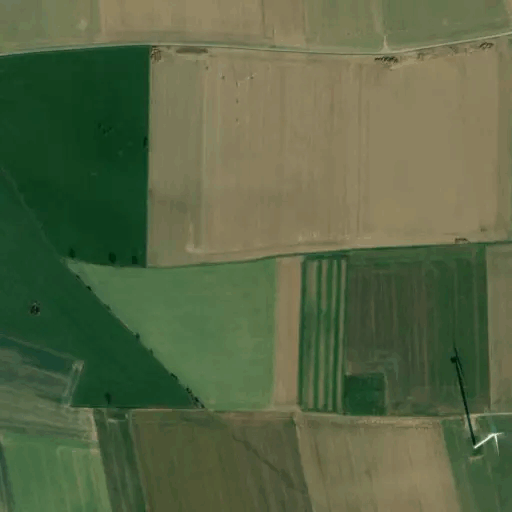wt: (449, 344, 503, 458)
